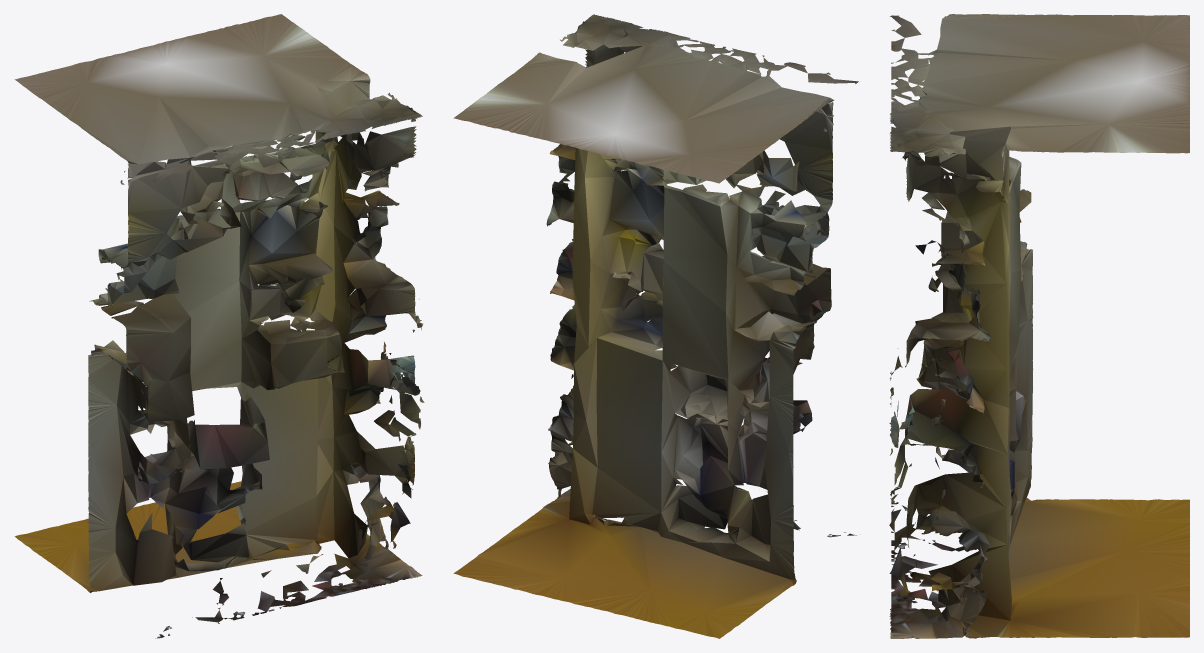
The model's file is coarse.glb.
3 views of the same model, side by side, from view 1: azimuth 30°, elevation 25°; view 2: azimuth 150°, elevation 25°; view 3: azimuth 270°, elevation 25° (orthographic). The views are drawn at different scales.
Bounding box in the file's own units: 1.73 × 2.85 × 1.58.
